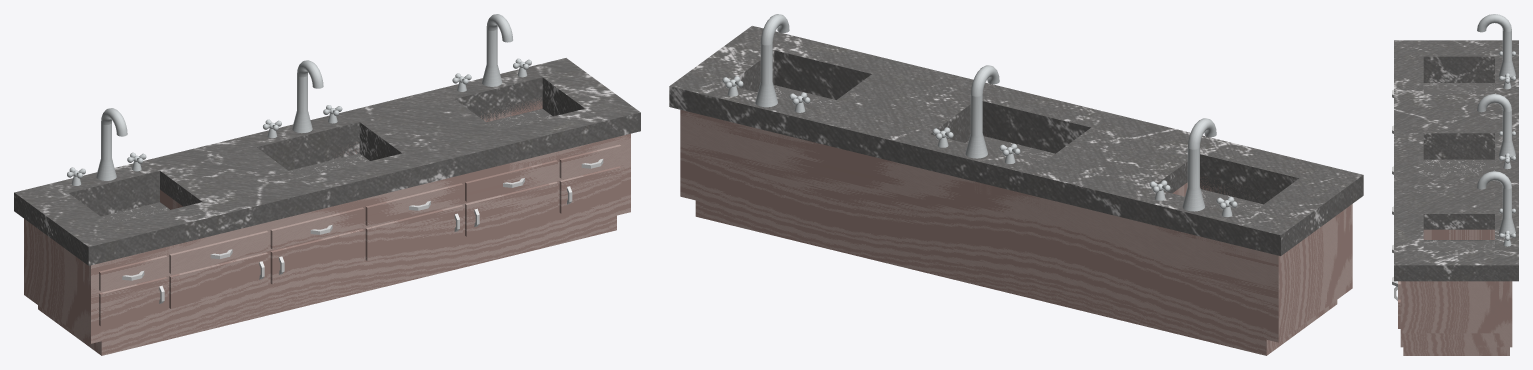
The model's file is labcounter.fbx.
The picture shows the model from 3 angles, left to right: view 1: azimuth 30°, elevation 25°; view 2: azimuth 150°, elevation 25°; view 3: azimuth 270°, elevation 25°; orthographic projection. The views are drawn at different scales.
Parts seen in each view (by area): view 1: polySurface2; view 2: polySurface2; view 3: polySurface2.
Boxes of the visible parts, <box> form: polySurface2: <box>14,14,640,355</box>; polySurface2: <box>669,14,1363,355</box>; polySurface2: <box>1392,14,1518,355</box>.
Size of the model in its own units: 6.46 by 2.12 by 1.54.
Materials: 9 (7 with a texture image).
